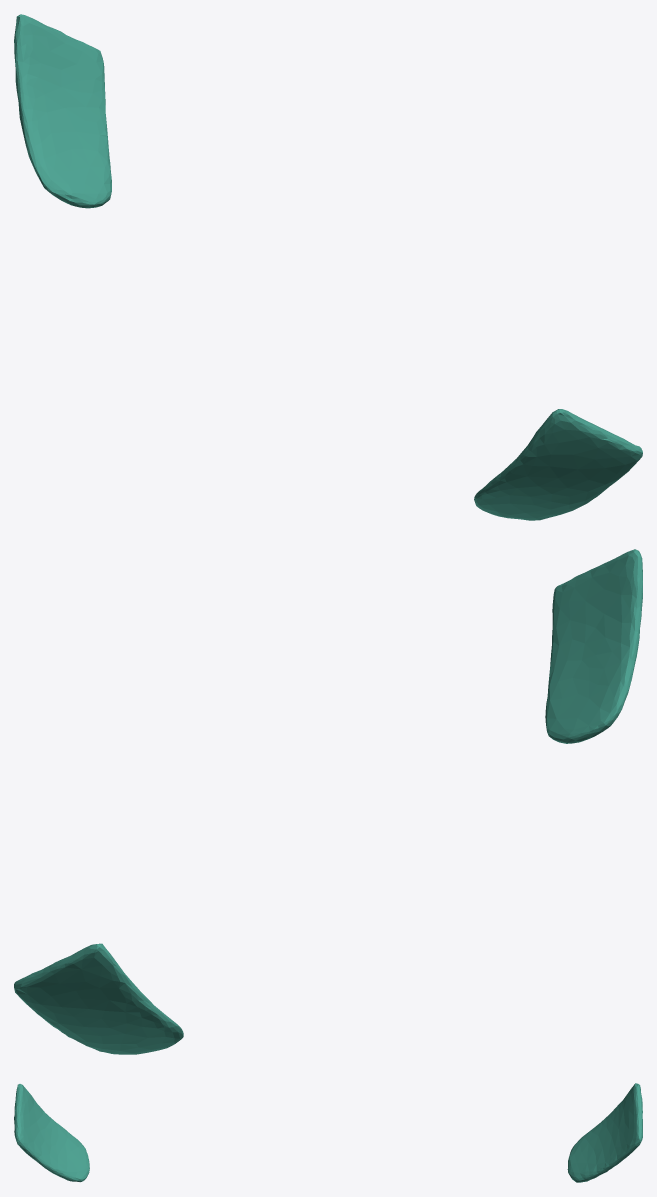
3 renders of one model, top to bottom at view 1: azimuth 30°, elevation 25°; view 2: azimuth 150°, elevation 25°; view 3: azimuth 270°, elevation 25°, orthographic. The views are drawn at different scales.
Parts seen in each view (by area): view 1: 558.obj; view 2: 558.obj; view 3: 558.obj.
Boxes of the visible parts, x1=… form: 558.obj: x1=14, y1=14, x2=642, y2=520; 558.obj: x1=14, y1=549, x2=642, y2=1054; 558.obj: x1=14, y1=1083, x2=642, y2=1182.
Size of the model in its own units: 1085 by 1403 by 8880.
